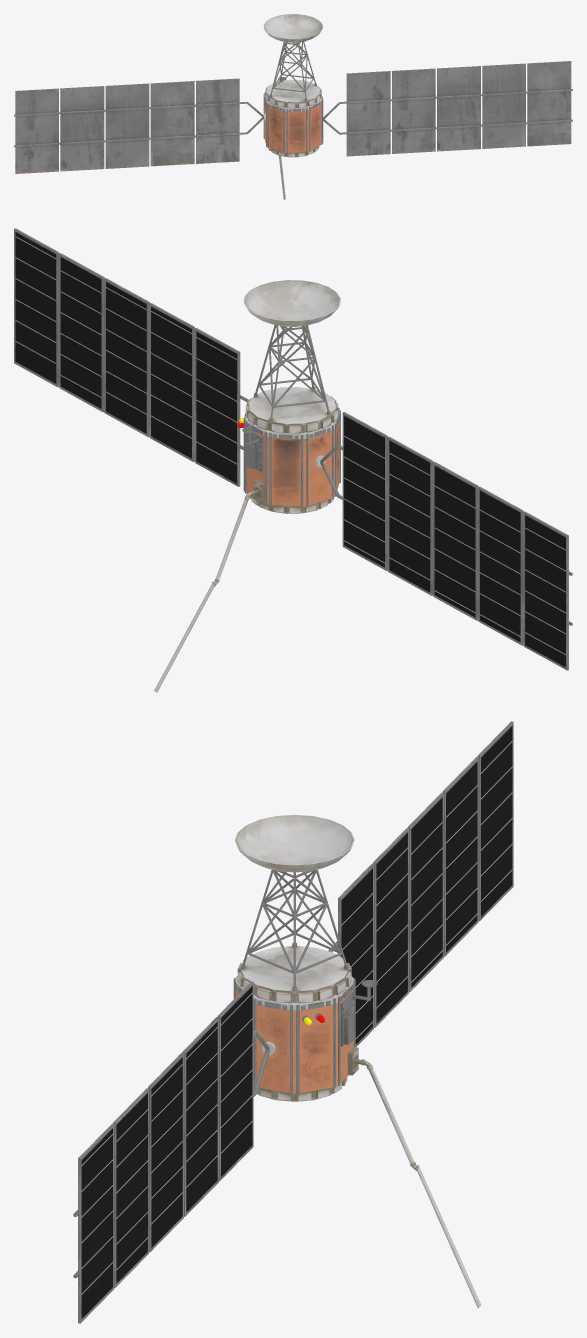
File: satellite-transformed.glb
The picture shows the model from 3 angles, top to bottom: view 1: azimuth 30°, elevation 25°; view 2: azimuth 150°, elevation 25°; view 3: azimuth 270°, elevation 25°; orthographic projection. The views are drawn at different scales.
Parts seen in each view (by area): view 1: Object_2; view 2: Object_2; view 3: Object_2.
Boxes of the visible parts, bbox=[...] form: Object_2: bbox=[14, 14, 572, 199]; Object_2: bbox=[14, 228, 572, 692]; Object_2: bbox=[73, 721, 513, 1323].
Bounding box in the file's own units: 17.13 × 7.85 × 7.25.
1 material, 1 textured.
